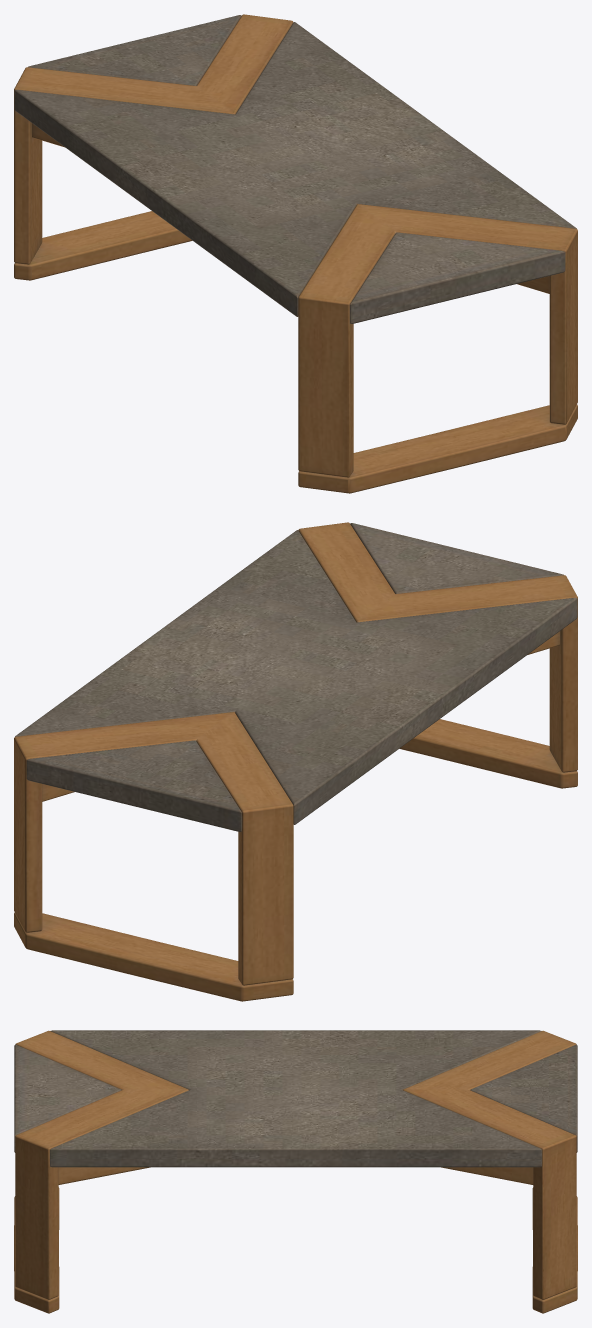
File: modern_coffee_table_01.glb
3 renders of one model, top to bottom at view 1: azimuth 30°, elevation 25°; view 2: azimuth 150°, elevation 25°; view 3: azimuth 270°, elevation 25°, orthographic. The views are drawn at different scales.
Parts seen in each view (by area): view 1: modern_coffee_table_01; view 2: modern_coffee_table_01; view 3: modern_coffee_table_01.
Boxes of the visible parts, x1=… form: modern_coffee_table_01: x1=14, y1=14, x2=577, y2=493; modern_coffee_table_01: x1=14, y1=522, x2=577, y2=1001; modern_coffee_table_01: x1=14, y1=1030, x2=577, y2=1313.
Bounding box in the file's own units: 0.6 × 0.39 × 1.2.
Materials: 1 (1 with a texture image).
